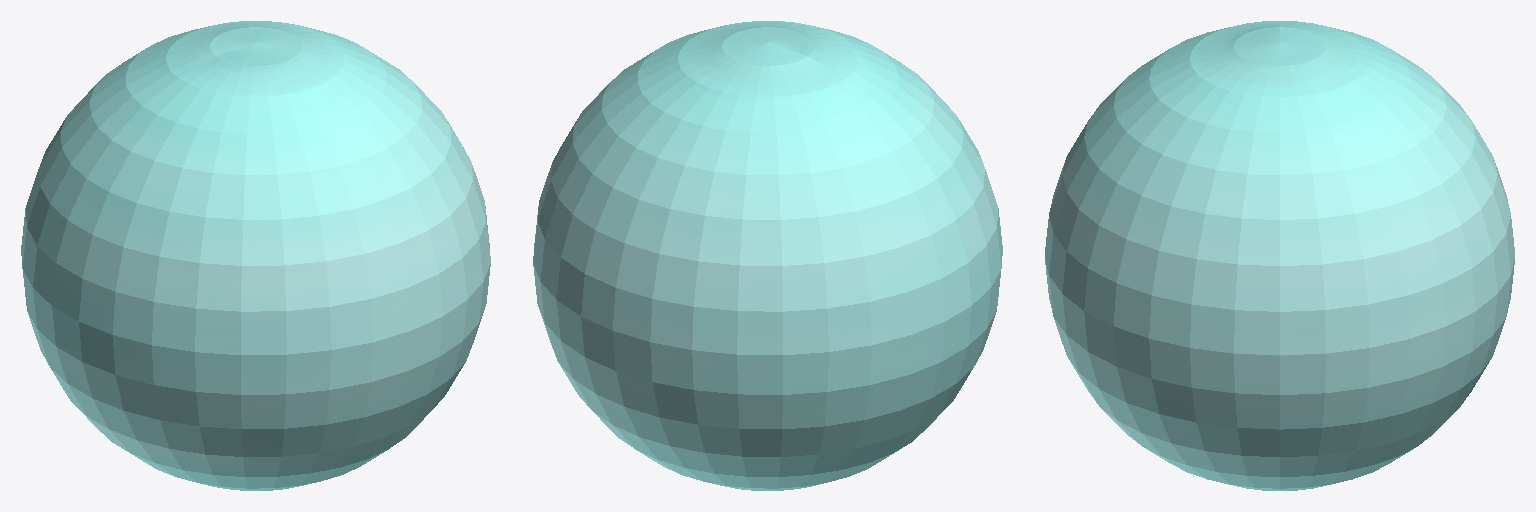
3 views of the same model, side by side, from view 1: azimuth 30°, elevation 25°; view 2: azimuth 150°, elevation 25°; view 3: azimuth 270°, elevation 25° (orthographic).
Parts seen in each view (by area): view 1: 球; view 2: 球; view 3: 球.
Part boxes in pixels (bbox=[...]): 球: bbox=[21, 21, 490, 490]; 球: bbox=[533, 21, 1002, 490]; 球: bbox=[1045, 21, 1514, 490].
Size of the model in its own units: 2 by 2 by 2.
Materials: 1 (1 with a texture image).